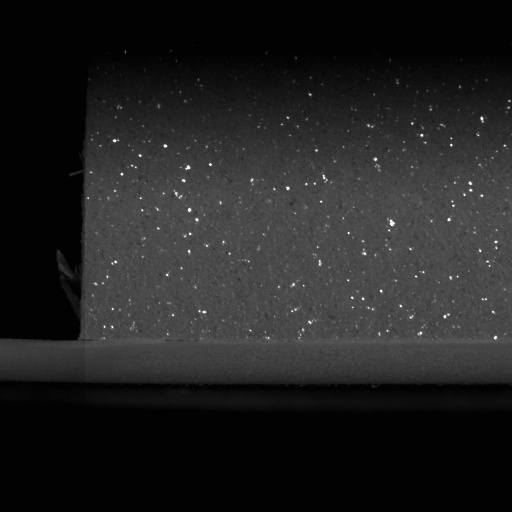changdai: (0, 336, 78, 387)
